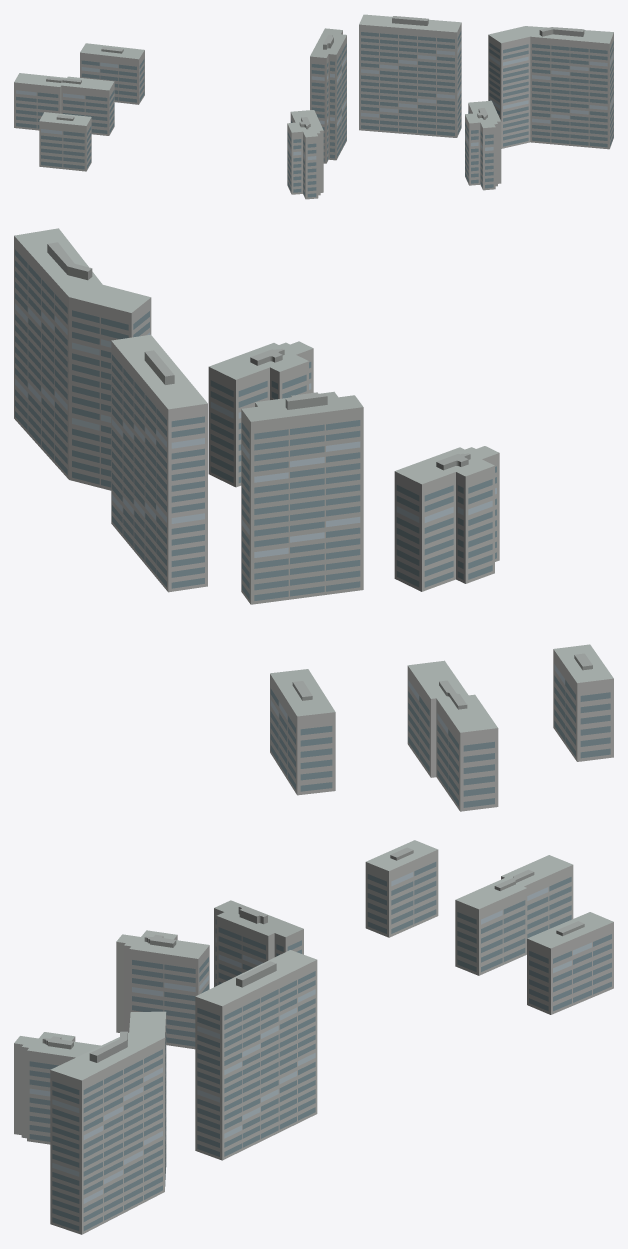
The model's file is apt-a13778203.glb.
3 renders of one model, top to bottom at view 1: azimuth 30°, elevation 25°; view 2: azimuth 150°, elevation 25°; view 3: azimuth 270°, elevation 25°, orthographic. The views are drawn at different scales.
Visible parts, largest first — view 1: apt-a13778203; view 2: apt-a13778203; view 3: apt-a13778203.
Part boxes in pixels (box(x1,y1,x2,y2)): apt-a13778203: box(14, 14, 613, 199); apt-a13778203: box(14, 228, 613, 811); apt-a13778203: box(14, 840, 613, 1234).
Bounding box in the file's own units: 222 × 51 × 172.
